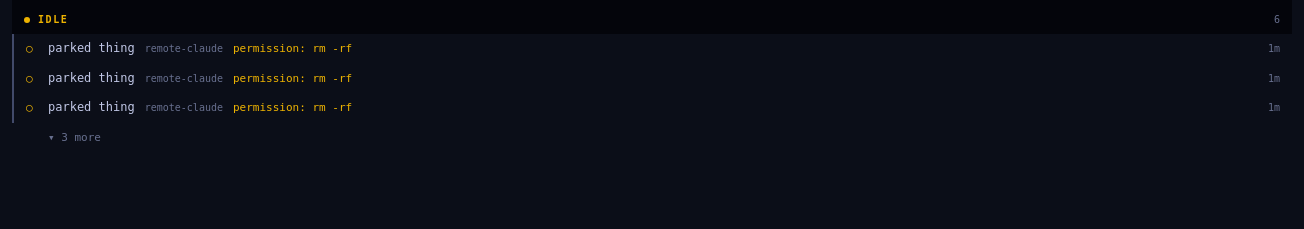
Test case: PulseBandsView › folds a long band behind a "more" affordance, and unfolds on click
The width and height of the screenshot is (1304, 229).
Expected: the text "parked thing" is shown 3 times, [48,40,135,56]; [48,70,135,86]; [48,99,135,115]
What coordinates should you click on to do the following:
click the button "▾ 3 more"
I would click on:
 (84, 137)
Its box is [12,123,1292,152].
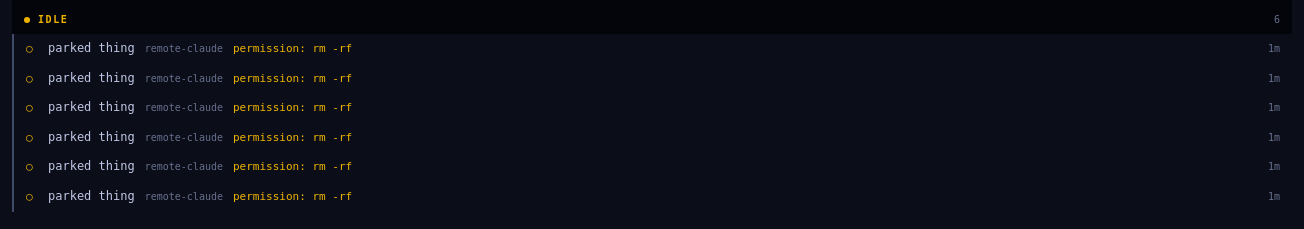
Now the text "parked thing" is shown 6 times, box [48,40,135,56]; [48,70,135,86]; [48,99,135,115]; [48,129,135,145]; [48,158,135,174]; [48,188,135,204]
